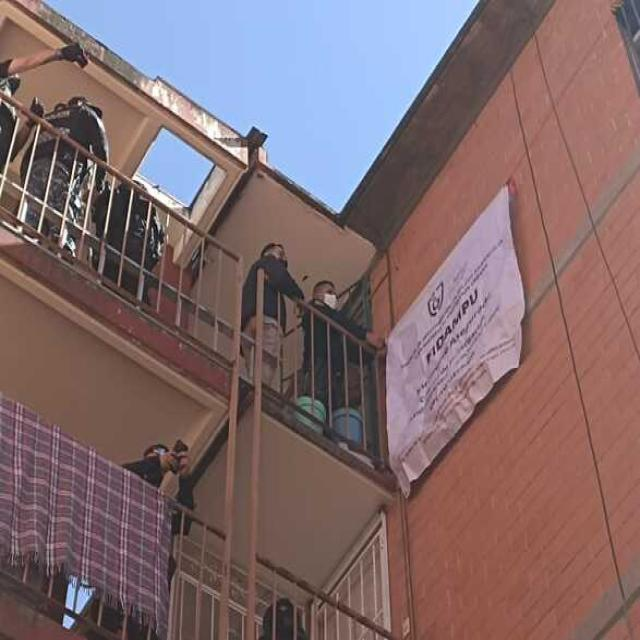stamps: (387, 187, 516, 487)
